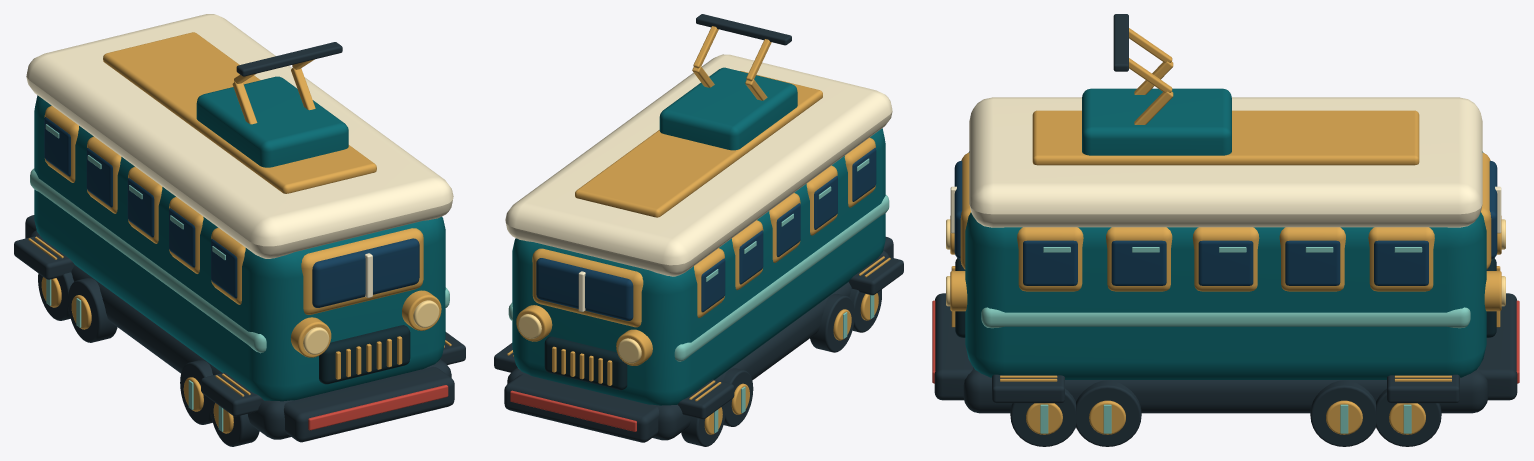
Rendered from AzureLine.fbx.
3 renders of one model, left to right at view 1: azimuth 30°, elevation 25°; view 2: azimuth 150°, elevation 25°; view 3: azimuth 270°, elevation 25°, orthographic. The views are drawn at different scales.
Visible parts, largest first — view 1: Roof, Teal Cab, Roof Rib, Roof Housing, Cowcatcher, Windshield, Lower Frame, Cab Waist Stripe, Front Radiator, Windshield Frame, Bumper Stripe, Wheel -0.56 2 (+24 smaller); view 2: Roof, Teal Cab, Roof Rib, Roof Housing, Cowcatcher.001, Windshield.001, Lower Frame, Cab Waist Stripe, Front Radiator.001, Windshield Frame.001, Bumper Stripe.001, Wheel -0.56 1 (+21 smaller); view 3: Teal Cab, Roof, Roof Rib, Lower Frame, Roof Housing, Cab Waist Stripe, Cowcatcher, Cowcatcher.001, Wheel 0.56 1, Wheel 0.56 2, Passenger Glass 0.56 1, Passenger Glass 0.56 2 (+23 smaller).
Boxes of the visible parts, left/top/right/bottom form: Roof: left=26, top=14, right=453, bottom=258; Teal Cab: left=34, top=95, right=445, bottom=401; Roof Rib: left=103, top=32, right=376, bottom=193; Roof Housing: left=196, top=76, right=348, bottom=167; Cowcatcher: left=284, top=366, right=454, bottom=442; Windshield: left=312, top=238, right=419, bottom=307; Lower Frame: left=29, top=230, right=451, bottom=439; Cab Waist Stripe: left=30, top=168, right=449, bottom=353; Front Radiator: left=319, top=325, right=410, bottom=384; Windshield Frame: left=301, top=228, right=423, bottom=314; Bumper Stripe: left=308, top=385, right=448, bottom=430; Wheel -0.56 2: left=68, top=278, right=117, bottom=342; Roof: left=505, top=54, right=892, bottom=276; Teal Cab: left=512, top=128, right=885, bottom=405; Roof Rib: left=575, top=71, right=822, bottom=217; Roof Housing: left=659, top=67, right=797, bottom=150; Cowcatcher.001: left=504, top=374, right=659, bottom=442; Windshield.001: left=536, top=258, right=633, bottom=320; Lower Frame: left=507, top=250, right=889, bottom=440; Cab Waist Stripe: left=508, top=195, right=889, bottom=361; Front Radiator.001: left=544, top=336, right=627, bottom=390; Windshield Frame.001: left=532, top=248, right=643, bottom=327; Bumper Stripe.001: left=510, top=390, right=636, bottom=431; Wheel -0.56 1: left=810, top=294, right=854, bottom=352; Teal Cab: left=965, top=151, right=1486, bottom=379; Roof: left=969, top=97, right=1482, bottom=227; Roof Rib: left=1032, top=110, right=1419, bottom=165; Lower Frame: left=963, top=367, right=1488, bottom=413; Roof Housing: left=1082, top=88, right=1231, bottom=155; Cab Waist Stripe: left=981, top=307, right=1470, bottom=328; Cowcatcher: left=934, top=293, right=972, bottom=400; Cowcatcher.001: left=1479, top=293, right=1517, bottom=400; Wheel 0.56 1: left=1076, top=380, right=1141, bottom=446; Wheel 0.56 2: left=1310, top=380, right=1375, bottom=446; Passenger Glass 0.56 1: left=1111, top=240, right=1166, bottom=285; Passenger Glass 0.56 2: left=1198, top=240, right=1253, bottom=285.
Size of the model in its own units: 144 by 200 by 298.
